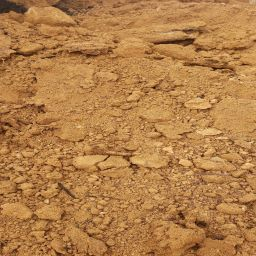dirt: (0, 1, 252, 252)
